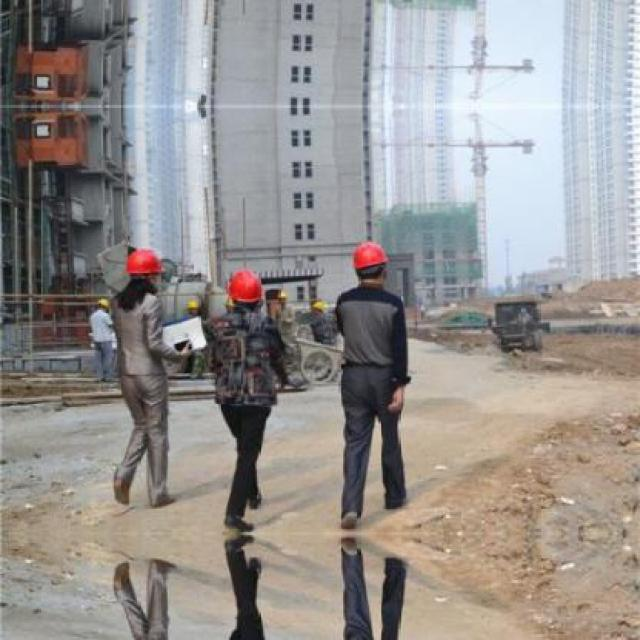helmet: (352, 242, 390, 290), (124, 246, 162, 292), (228, 266, 264, 312), (95, 293, 111, 313), (182, 298, 196, 314), (273, 289, 287, 305), (310, 300, 324, 315)
